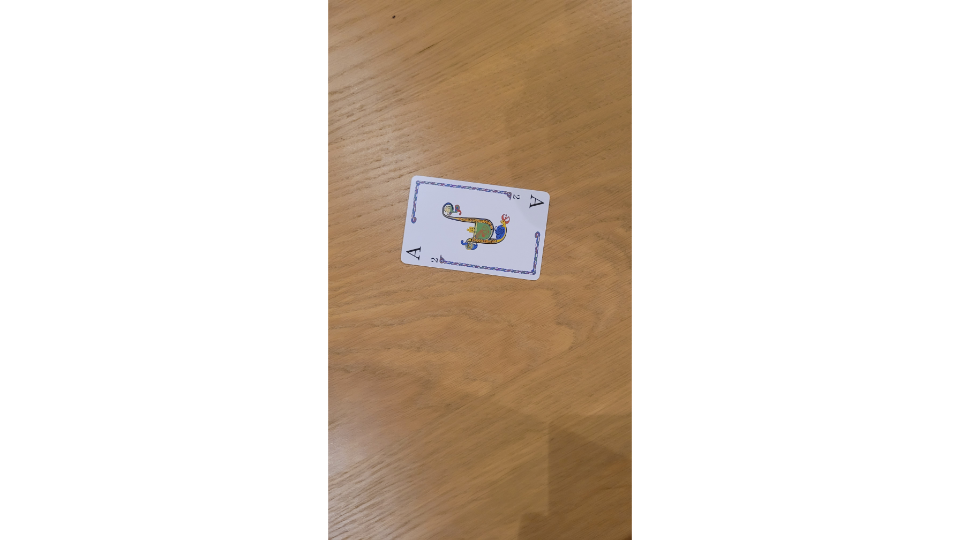A: (399, 173, 554, 283)
